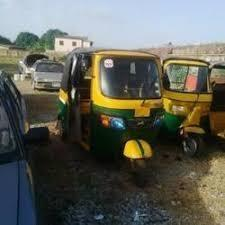keke: (57, 44, 167, 186), (150, 54, 214, 160)
